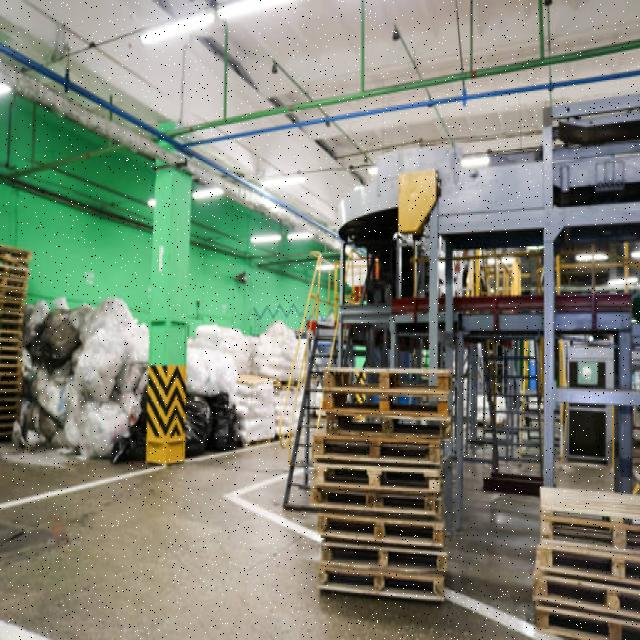Wooden-Pallets: (324, 362, 456, 390), (322, 412, 458, 438), (310, 464, 442, 489), (312, 569, 448, 593), (311, 522, 450, 540)
